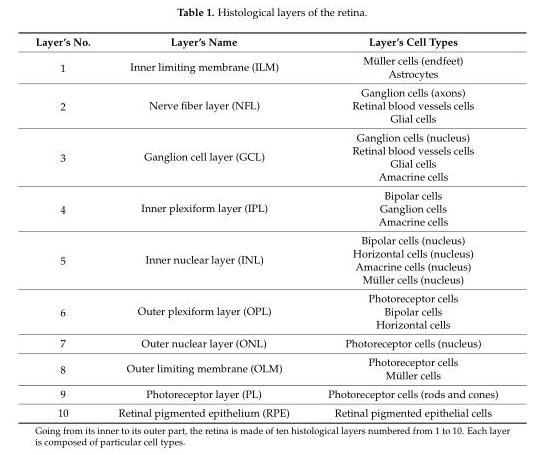table: (34, 34, 497, 418)
table column: (103, 34, 308, 418), (308, 34, 497, 418), (34, 34, 103, 418)
table column header: (34, 34, 497, 50)
table row: (34, 333, 497, 352), (34, 384, 497, 402), (34, 34, 497, 50), (34, 50, 497, 66), (34, 66, 497, 82), (34, 82, 497, 98), (34, 111, 497, 127), (34, 127, 497, 143), (34, 169, 497, 185), (34, 185, 497, 201), (34, 214, 497, 230), (34, 230, 497, 246), (34, 272, 497, 288), (34, 288, 497, 304), (34, 317, 497, 333), (34, 352, 497, 368), (34, 368, 497, 384), (34, 402, 497, 418), (34, 98, 497, 111), (34, 143, 497, 156), (34, 156, 497, 169), (34, 201, 497, 214), (34, 246, 497, 259), (34, 259, 497, 272), (34, 304, 497, 317)
table spanning cell: (103, 127, 308, 185), (103, 230, 308, 288), (103, 82, 308, 127), (103, 185, 308, 230), (103, 288, 308, 333), (103, 50, 308, 82), (103, 352, 308, 384), (34, 127, 103, 185), (34, 230, 103, 288), (34, 82, 103, 127), (34, 185, 103, 230), (34, 288, 103, 333), (34, 50, 103, 82), (34, 352, 103, 384)
